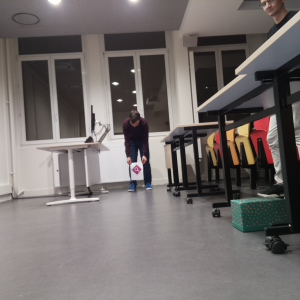search: (132, 164, 142, 175)
